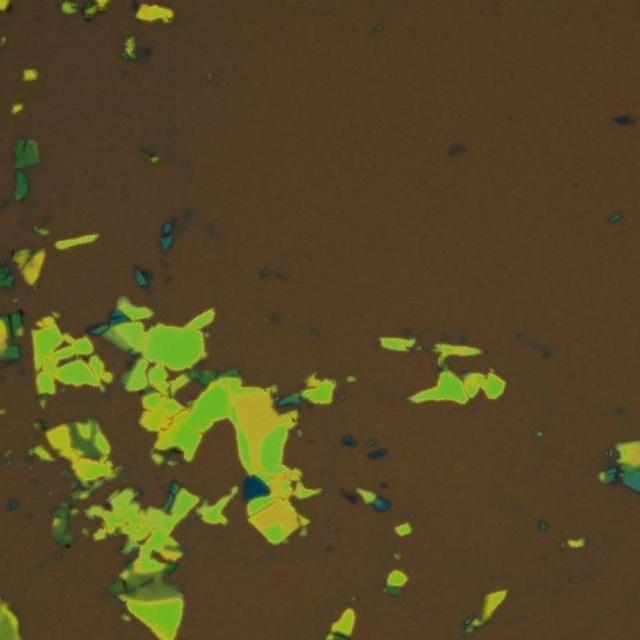monolayer-eWW4: (340, 487, 350, 497)
